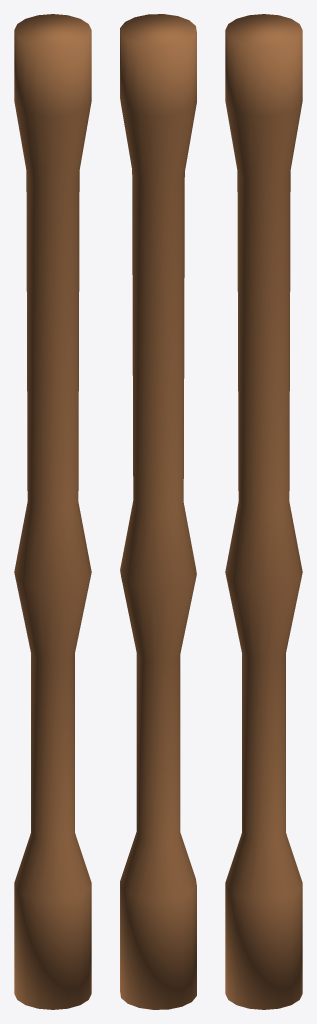
File: rail_post.glb
3 views of the same model, side by side, from view 1: azimuth 90°, elevation 25°; view 2: azimuth 150°, elevation 25°; view 3: azimuth 270°, elevation 25° (orthographic).
Visible parts, largest first — view 1: House07_rail_post; view 2: House07_rail_post; view 3: House07_rail_post.
Boxes of the visible parts, bbox=[...] form: House07_rail_post: bbox=[14, 14, 91, 1009]; House07_rail_post: bbox=[120, 14, 196, 1009]; House07_rail_post: bbox=[225, 14, 302, 1009].
Bounding box in the file's own units: 0.07 × 0.96 × 0.07.
